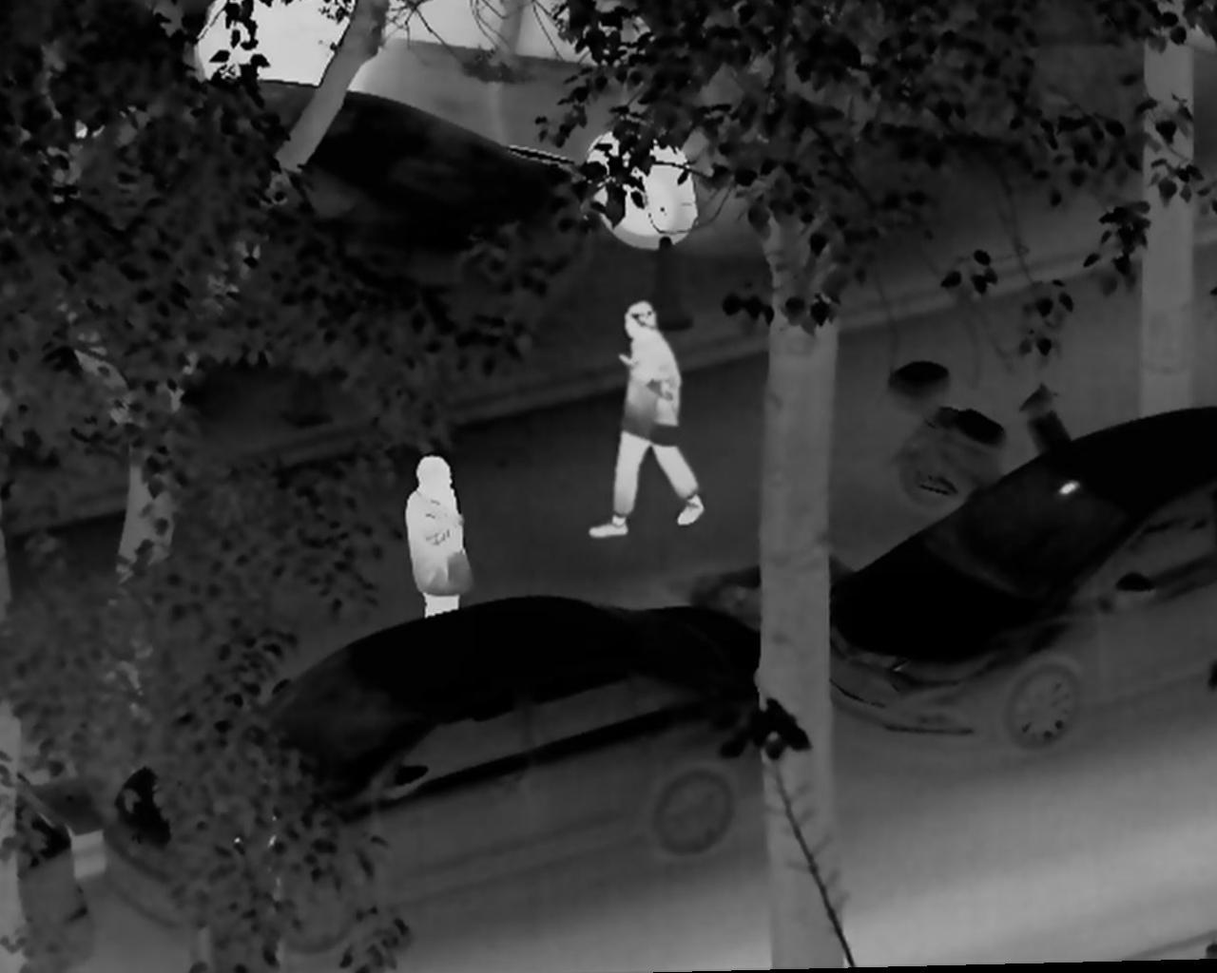person: (587, 302, 704, 539), (400, 455, 473, 621)
